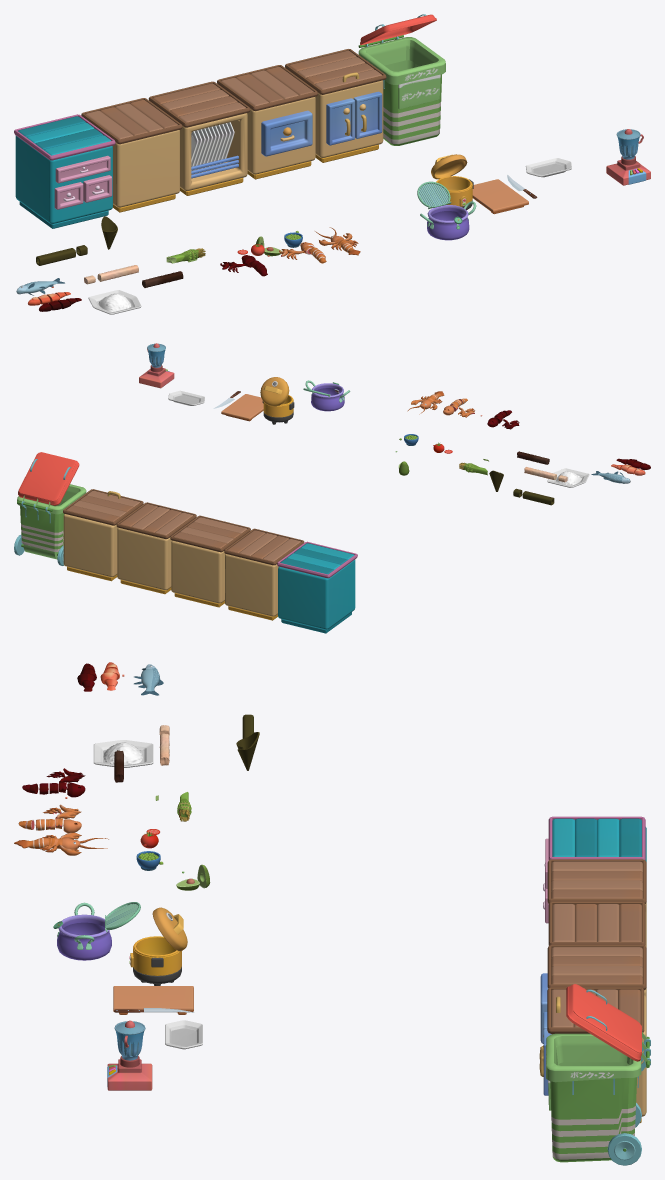
The model's file is Sushi bonk_Assets_18_8_2025_1.fbx.
3 views of the same model, one above another, from view 1: azimuth 30°, elevation 25°; view 2: azimuth 150°, elevation 25°; view 3: azimuth 270°, elevation 25° (orthographic). The views are drawn at different scales.
Parts seen in each view (by area): view 1: Dustbin, Plate_counter_pCube8, polySurface115, polySurface118, polySurface333, polySurface331, polySurface330, polySurface339, polySurface332, polySurface109, polySurface336, Pan (+12 smaller); view 2: Dustbin, polySurface118, Plate_counter_pCube8, polySurface101, polySurface109, polySurface115, polySurface339, polySurface333, polySurface330, polySurface331, polySurface332, Rice_Cooker (+3 smaller); view 3: Dustbin, polySurface331, polySurface332, polySurface333, polySurface330, Rice_Cooker, Pan, polySurface339, Grinder, Board, plate (×2), Lobster_Raw.
Boxes of the visible parts, left/top/right/bottom form: Dustbin: left=358, top=14, right=445, bottom=145; Plate_counter_pCube8: left=180, top=113, right=247, bottom=195; polySurface115: left=112, top=130, right=179, bottom=207; polySurface118: left=15, top=135, right=112, bottom=223; polySurface333: left=14, top=114, right=115, bottom=160; polySurface331: left=148, top=81, right=250, bottom=127; polySurface330: left=217, top=65, right=317, bottom=111; polySurface339: left=285, top=49, right=386, bottom=94; polySurface332: left=81, top=98, right=182, bottom=144; polySurface109: left=247, top=97, right=315, bottom=174; polySurface336: left=326, top=91, right=382, bottom=145; Pan: left=417, top=181, right=476, bottom=240; Dustbin: left=14, top=452, right=86, bottom=565; polySurface118: left=278, top=559, right=355, bottom=629; Plate_counter_pCube8: left=171, top=540, right=225, bottom=607; polySurface101: left=63, top=514, right=117, bottom=577; polySurface109: left=117, top=527, right=171, bottom=590; polySurface115: left=225, top=554, right=278, bottom=616; polySurface339: left=63, top=489, right=143, bottom=525; polySurface333: left=277, top=541, right=357, bottom=578; polySurface330: left=116, top=502, right=196, bottom=539; polySurface331: left=170, top=515, right=250, bottom=552; polySurface332: left=224, top=528, right=304, bottom=565; Rice_Cooker: left=260, top=377, right=294, bottom=424; Dustbin: left=546, top=984, right=650, bottom=1165; polySurface331: left=548, top=901, right=645, bottom=945; polySurface332: left=547, top=859, right=646, bottom=903; polySurface333: left=548, top=816, right=645, bottom=859; polySurface330: left=547, top=945, right=646, bottom=989; Rice_Cooker: left=129, top=907, right=187, bottom=985; Pan: left=53, top=902, right=140, bottom=960; polySurface339: left=547, top=987, right=644, bottom=1033; Grinder: left=107, top=1020, right=152, bottom=1090; Board: left=113, top=986, right=193, bottom=1014; plate (×2): left=93, top=740, right=202, bottom=1049; Lobster_Raw: left=14, top=832, right=108, bottom=855.
Bounding box in the file's own units: 725 × 141 × 497.
Materials: 1 (1 with a texture image).
